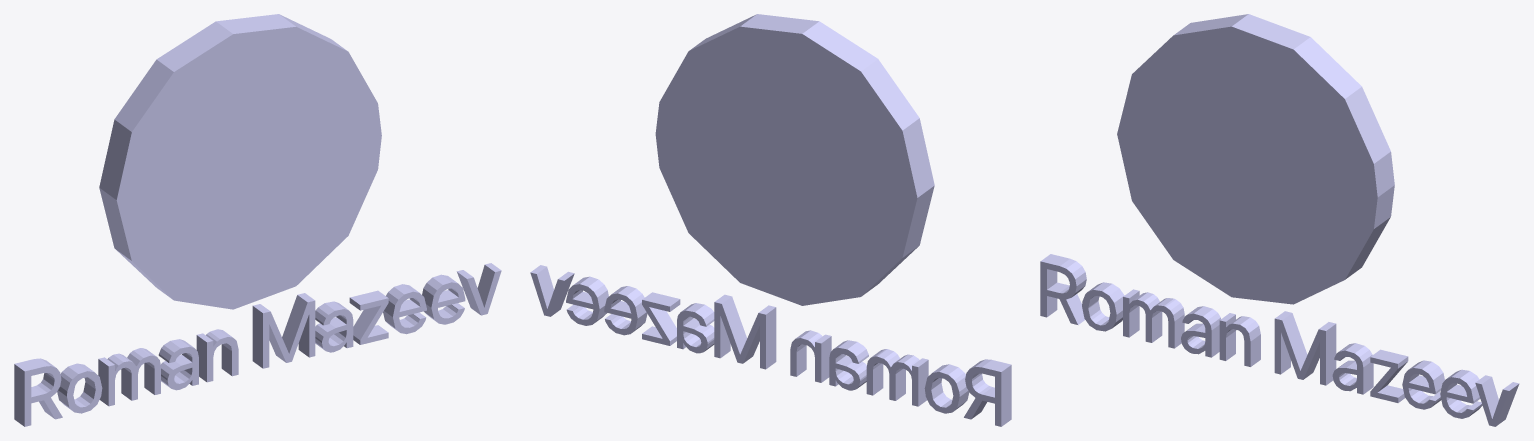
The model's file is content.glb.
3 views of the same model, side by side, from view 1: azimuth 30°, elevation 25°; view 2: azimuth 150°, elevation 25°; view 3: azimuth 330°, elevation 25° (orthographic).
Size of the model in its own units: 89.94 by 62.97 by 5.7.
